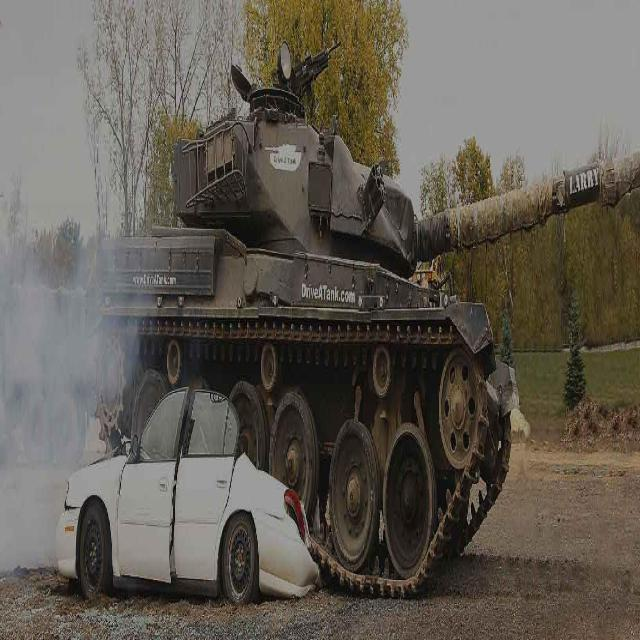Tanks: (79, 65, 613, 392)
